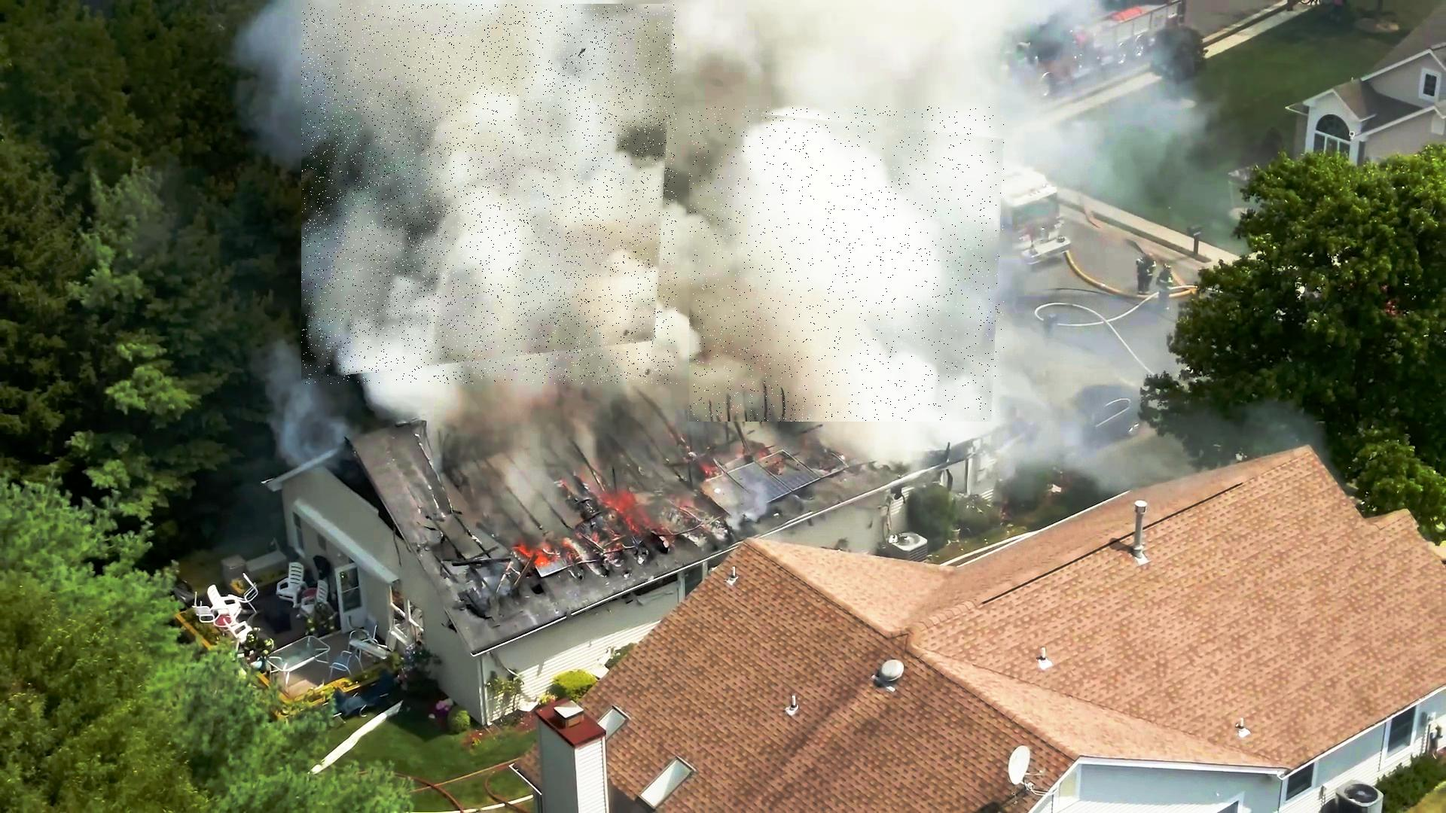smoke: (301, 4, 677, 384), (689, 106, 1004, 422)
